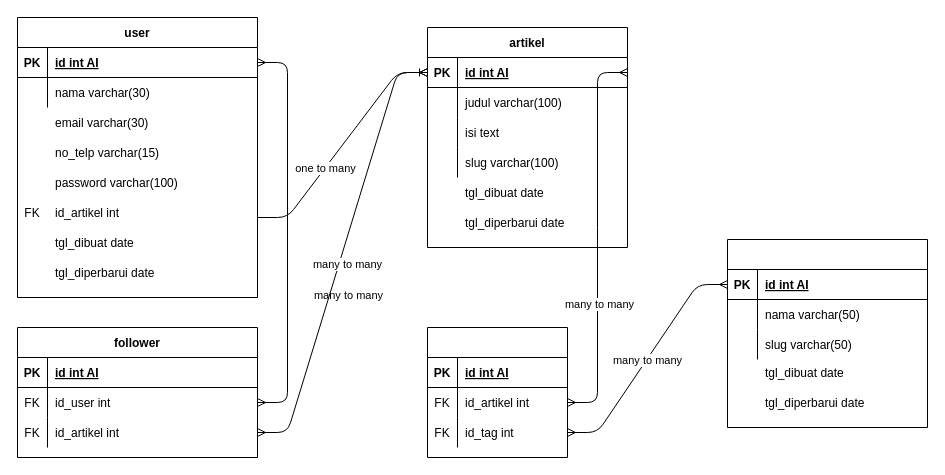
The diagram is 945 pixels wide and 475 high, and some of its shapes have lost their labels. Each missing label, with the box of its shape:
artikel_tag: (426, 326, 568, 458)
tag: (726, 238, 928, 428)
